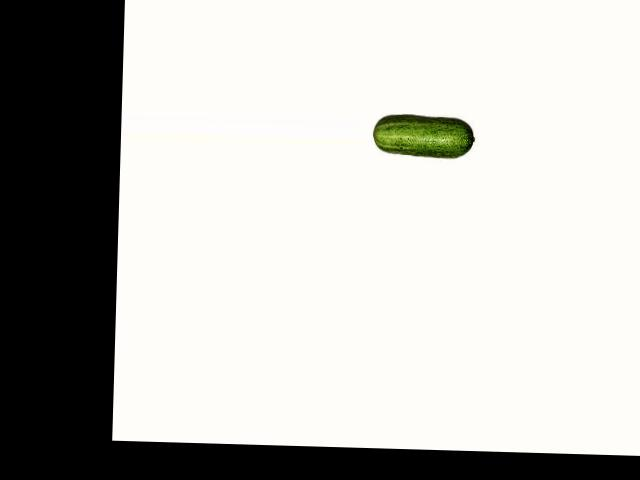cucumber: (372, 114, 475, 158)
